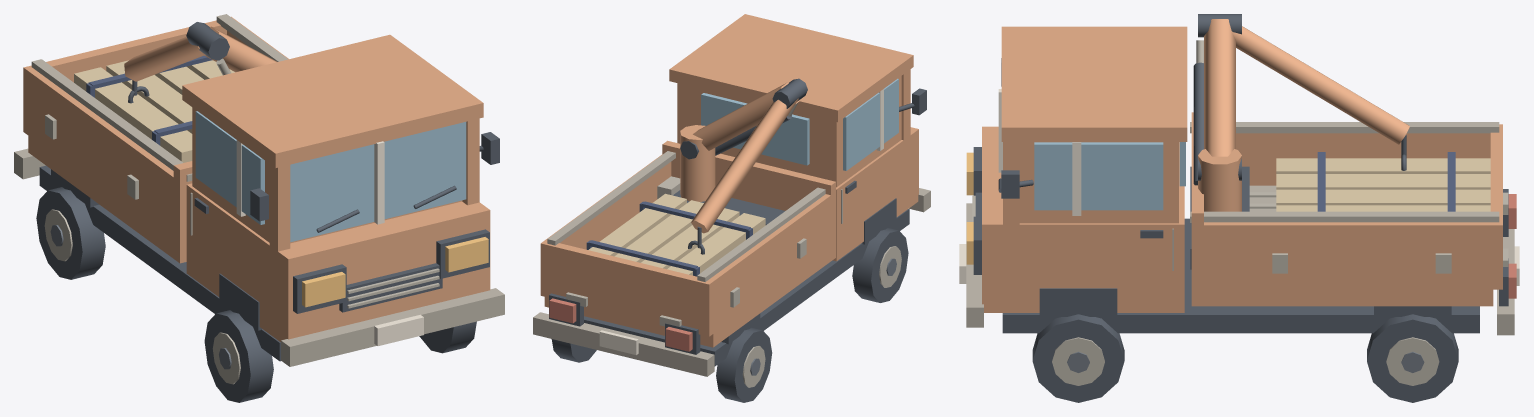
File: komachi-builder.glb
3 views of the same model, side by side, from view 1: azimuth 30°, elevation 25°; view 2: azimuth 150°, elevation 25°; view 3: azimuth 270°, elevation 25° (orthographic). The views are drawn at different scales.
Visible parts, largest first — view 1: Body_Paint, Trim_Glass_And_Chassis, Cargo_Timber, Wheel_Left_Front, Wheel_Left_Rear, Crane_Arm, Headlights, Wheel_Right_Front; view 2: Body_Paint, Trim_Glass_And_Chassis, Crane_Arm, Cargo_Timber, Wheel_Left_Rear, Wheel_Left_Front, Taillights, Crane_Base_And_Stowed_Outriggers, Wheel_Right_Rear; view 3: Body_Paint, Trim_Glass_And_Chassis, Crane_Arm, Cargo_Timber, Wheel_Right_Front, Wheel_Right_Rear, Headlights, Taillights, Crane_Base_And_Stowed_Outriggers.
Boxes of the visible parts, x1,y1,x2,y2 form: Body_Paint: [23, 16, 490, 341]; Trim_Glass_And_Chassis: [14, 14, 504, 366]; Cargo_Timber: [74, 55, 234, 162]; Wheel_Left_Front: [204, 310, 273, 402]; Wheel_Left_Rear: [36, 187, 105, 279]; Crane_Arm: [124, 22, 277, 103]; Headlights: [302, 237, 488, 307]; Wheel_Right_Front: [419, 321, 476, 353]; Body_Paint: [540, 14, 918, 347]; Trim_Glass_And_Chassis: [533, 78, 930, 376]; Crane_Arm: [680, 78, 807, 254]; Cargo_Timber: [586, 193, 765, 276]; Wheel_Left_Rear: [716, 327, 772, 402]; Wheel_Left_Front: [852, 228, 908, 302]; Taillights: [549, 298, 692, 351]; Crane_Base_And_Stowed_Outriggers: [657, 176, 784, 224]; Wheel_Right_Rear: [551, 339, 596, 362]; Body_Paint: [982, 26, 1502, 312]; Trim_Glass_And_Chassis: [959, 58, 1519, 335]; Crane_Arm: [1193, 14, 1409, 211]; Cargo_Timber: [1276, 152, 1490, 211]; Wheel_Right_Front: [1032, 314, 1124, 402]; Wheel_Right_Rear: [1367, 314, 1458, 402]; Headlights: [966, 152, 973, 264]; Taillights: [1508, 194, 1516, 298]; Crane_Base_And_Stowed_Outriggers: [1190, 166, 1249, 269].
Bounding box in the file's own units: 0.312 × 0.379 × 0.634.
